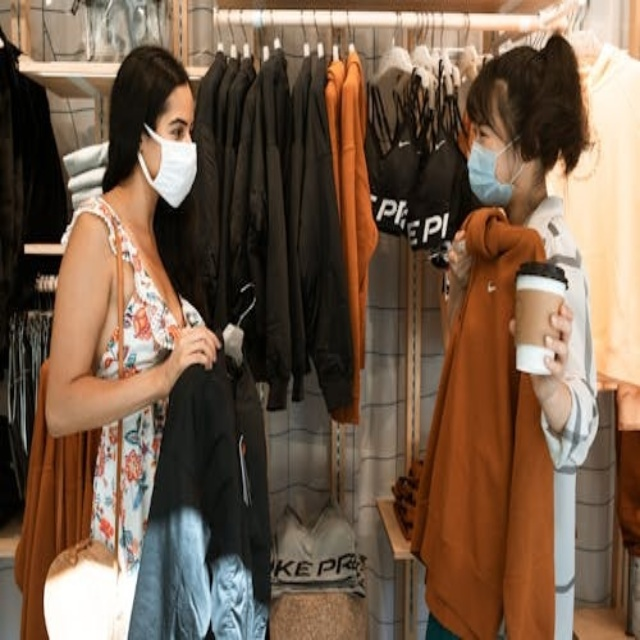Mascara: (138, 120, 199, 208), (466, 134, 523, 206)
Sin_gafas: (478, 126, 491, 139), (170, 127, 185, 138)
Sin_guantes: (507, 300, 579, 407), (159, 308, 220, 388), (443, 235, 473, 288)
